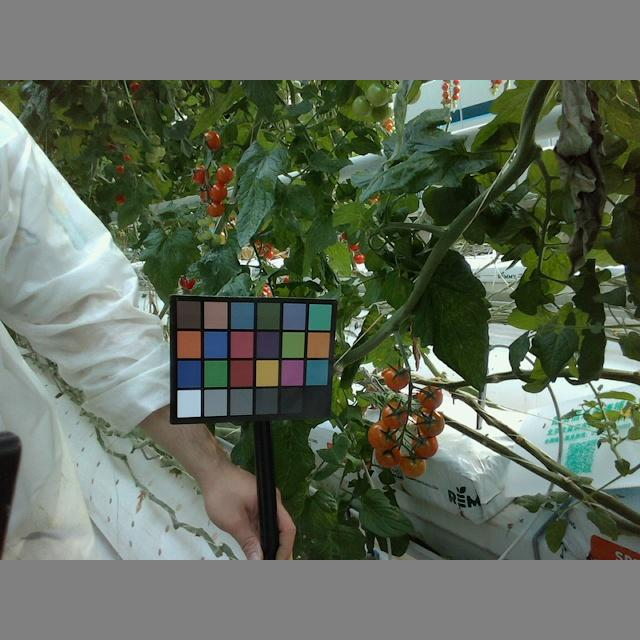pink: (412, 406, 447, 438), (367, 419, 397, 449), (400, 450, 428, 480), (411, 430, 439, 459), (383, 401, 411, 429), (372, 443, 402, 469), (381, 365, 408, 392), (418, 383, 442, 409)
red: (190, 164, 211, 185), (208, 181, 228, 203), (201, 130, 220, 150), (215, 164, 233, 185), (204, 200, 225, 216)
